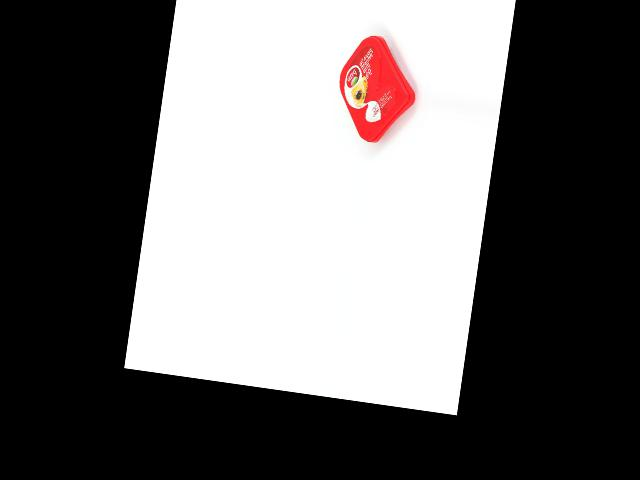cheese: (331, 31, 423, 148)
